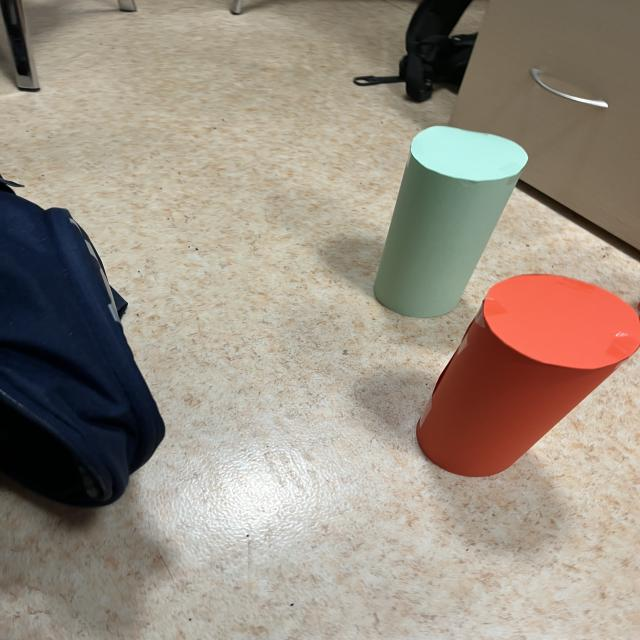meta: (374, 126, 528, 317)
przeszkoda: (416, 274, 640, 477)
